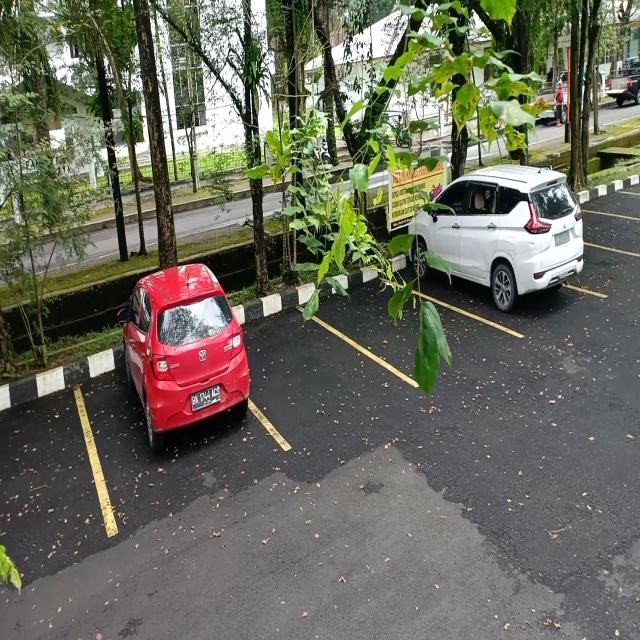empty: (258, 312, 375, 449), (335, 277, 453, 384), (585, 211, 640, 251)
occupied: (84, 338, 258, 471), (406, 228, 586, 330)
